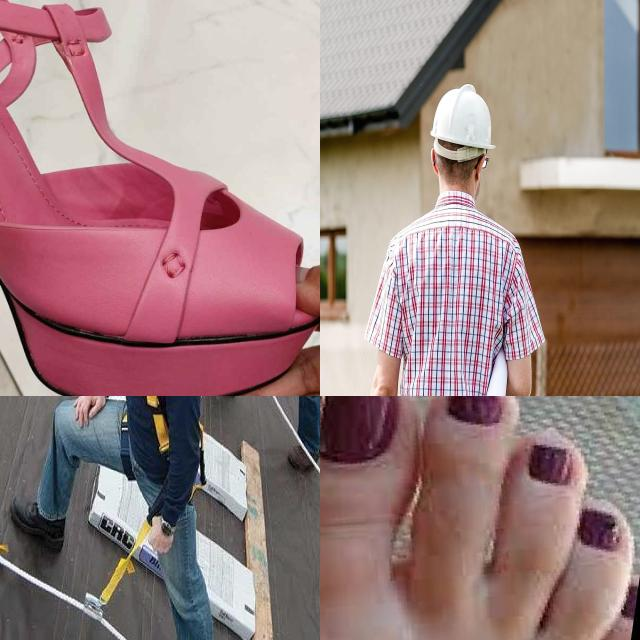Barefoots: (320, 396, 640, 640)
Harness: (115, 396, 201, 511)
No_Ear-Protection: (430, 84, 496, 206)
Sandals: (0, 0, 320, 396)
